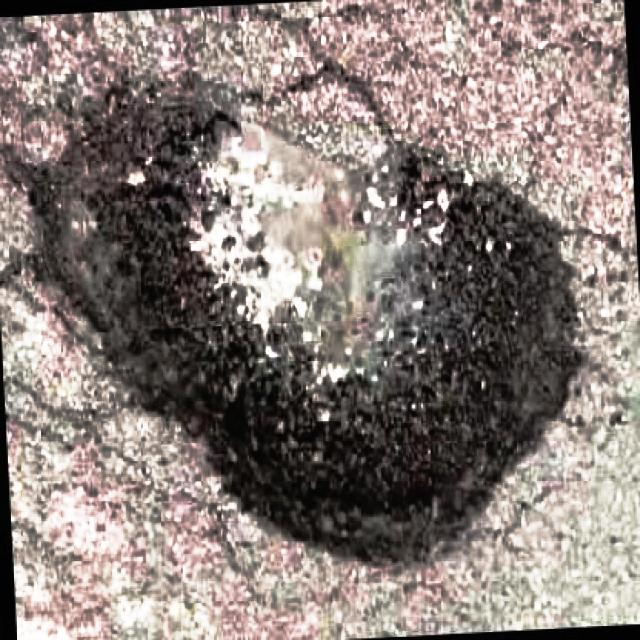pothole: (28, 55, 590, 574)
